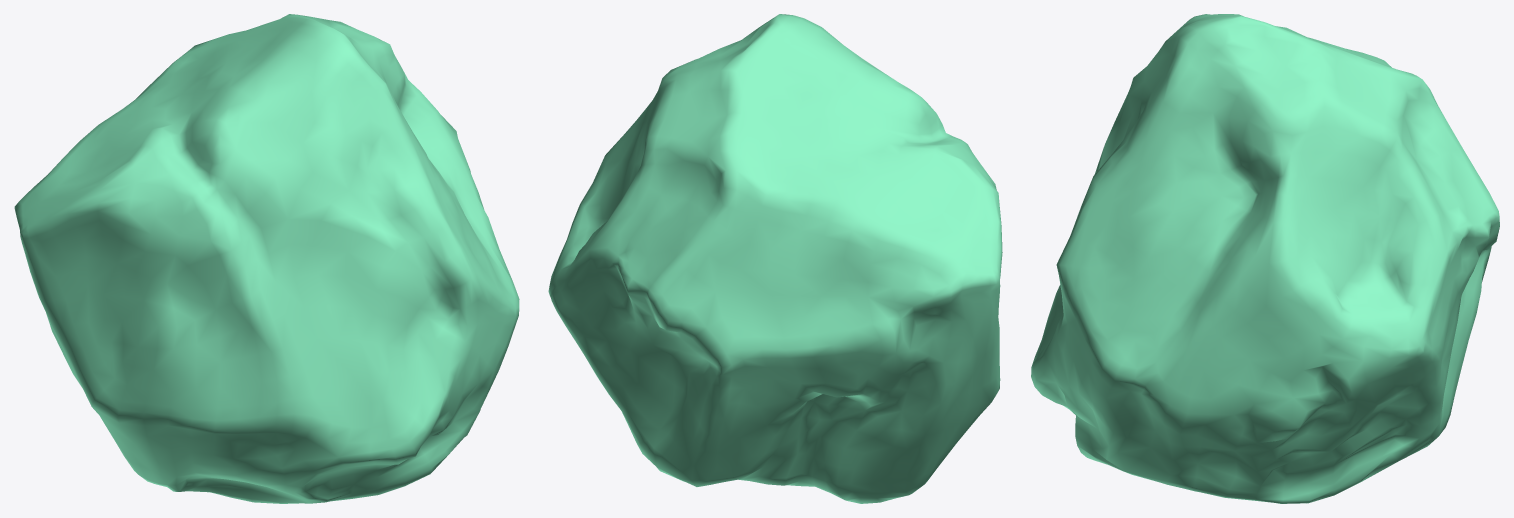
The model's file is Roche_02_Low.fbx.
3 renders of one model, left to right at view 1: azimuth 30°, elevation 25°; view 2: azimuth 150°, elevation 25°; view 3: azimuth 270°, elevation 25°, orthographic. The views are drawn at different scales.
Parts seen in each view (by area): view 1: PM3D_Sphere3D1; view 2: PM3D_Sphere3D1; view 3: PM3D_Sphere3D1.
Boxes of the visible parts, box(x1,y1,x2,y2) form: PM3D_Sphere3D1: box(14, 14, 519, 503); PM3D_Sphere3D1: box(548, 14, 1002, 503); PM3D_Sphere3D1: box(1031, 14, 1499, 503).
Size of the model in its own units: 1.53 by 1.53 by 1.38.
